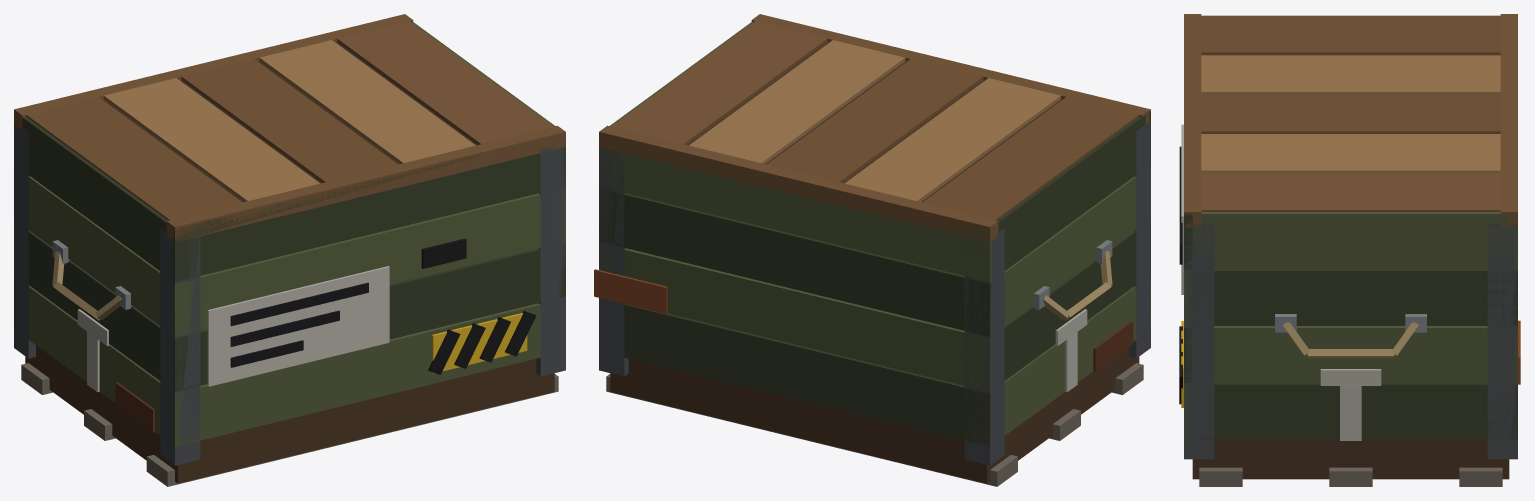
Rendered from prop_kit_crate.fbx.
3 views of the same model, side by side, from view 1: azimuth 30°, elevation 25°; view 2: azimuth 150°, elevation 25°; view 3: azimuth 270°, elevation 25° (orthographic). The views are drawn at different scales.
Visible parts, largest first — view 1: prop_kit_crate; view 2: prop_kit_crate; view 3: prop_kit_crate.
Part boxes in pixels (left/top/right/bottom): prop_kit_crate: left=14, top=14, right=565, bottom=486; prop_kit_crate: left=594, top=14, right=1150, bottom=486; prop_kit_crate: left=1179, top=14, right=1520, bottom=486.
Size of the model in its own units: 1.19 by 0.7 by 0.7865.
